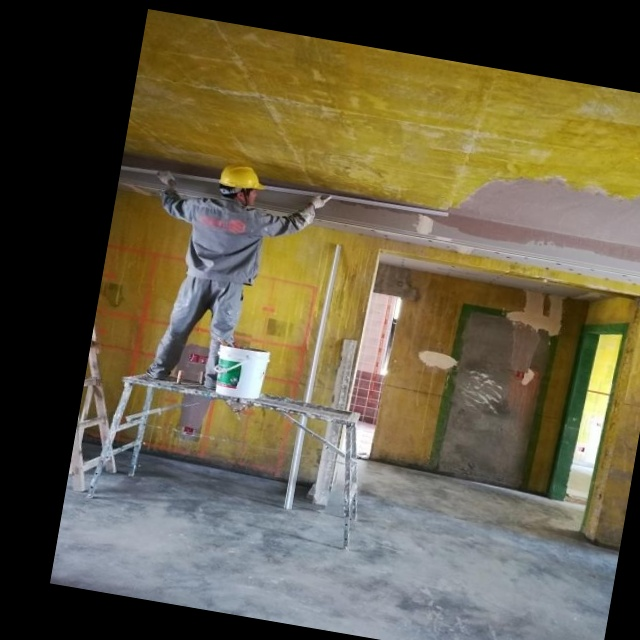Con_Casco: (217, 162, 266, 204)
Sin_Chaleco: (182, 195, 269, 284)
